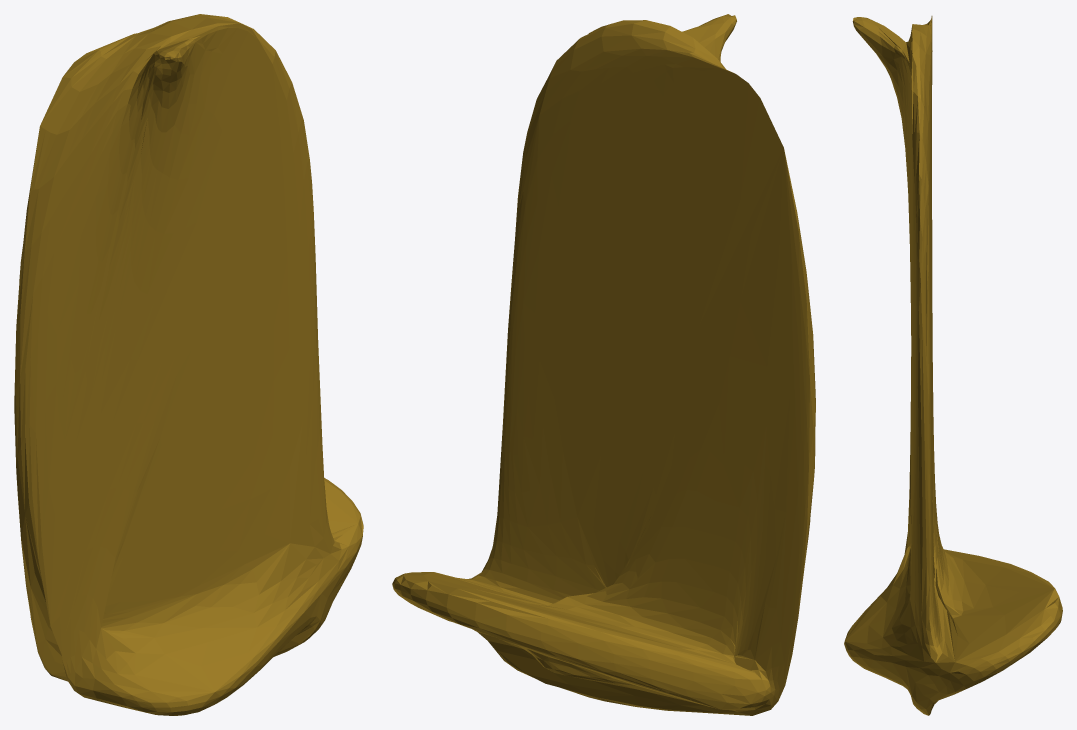
The picture shows the model from 3 angles, left to right: view 1: azimuth 30°, elevation 25°; view 2: azimuth 150°, elevation 25°; view 3: azimuth 270°, elevation 25°; orthographic projection. The views are drawn at different scales.
Visible parts, largest first — view 1: 279_Cube.1142; view 2: 279_Cube.1142; view 3: 279_Cube.1142.
Part boxes in pixels (x1,y1,x2,y2): 279_Cube.1142: (14,14,363,715); 279_Cube.1142: (392,14,815,715); 279_Cube.1142: (844,16,1062,715).
Bounding box in the file's own units: 6.67 × 11.45 × 3.59.
